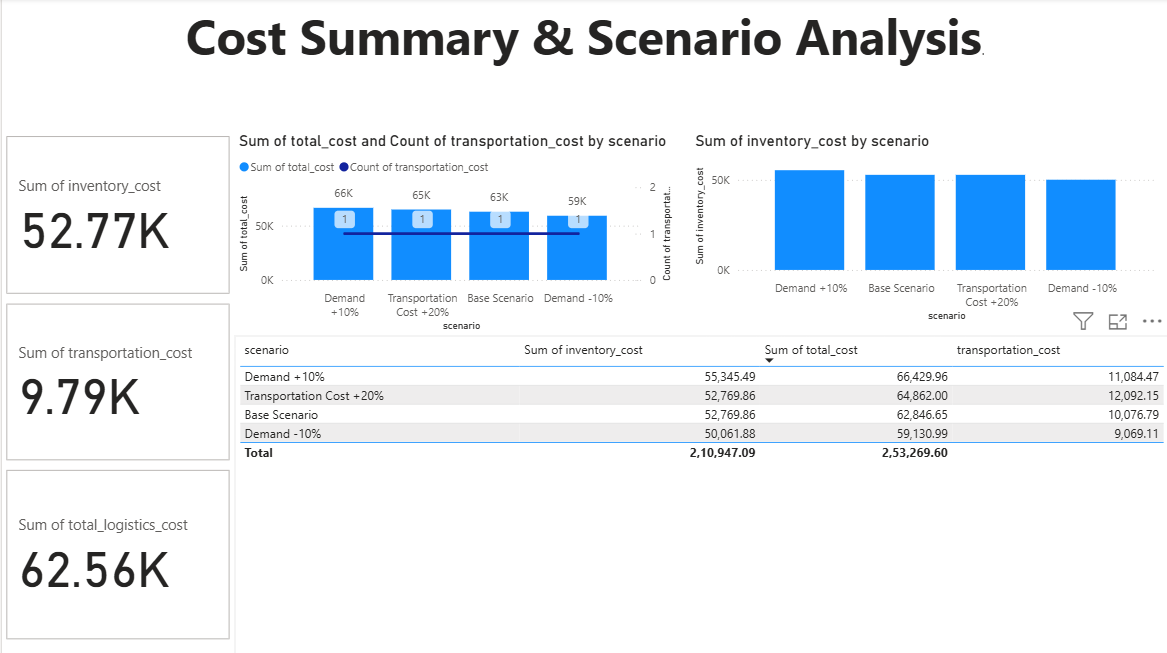

The dashboard page shown, as its layout file describes it:
{"tool":"powerbi","page":{"name":"Page 4","canvas":[1280,720],"ordinal":3},"visuals":[{"type":"textbox","box":[9.6,0,1261.1,89.2],"z":0},{"type":"cardVisual","fields":{"Data":["Sum(cost_summary (2).inventory_cost)"]},"box":[0,146.8,255.2,183.9],"z":1000},{"type":"cardVisual","fields":{"Data":["Sum(cost_summary (2).transportation_cost)"]},"box":[0,330.7,255.2,182.5],"z":2000},{"type":"cardVisual","fields":{"Data":["Sum(cost_summary (2).total_logistics_cost)"]},"box":[0,513.2,255.2,196.2],"z":3000},{"type":"lineClusteredColumnComboChart","fields":{"Category":["Data (10).scenario"],"Y":["Sum(Data (10).total_cost)"],"Y2":["CountNonNull(Data (10).transportation_cost)"]},"box":[255.2,146.8,485.8,223.7],"z":4000},{"type":"clusteredColumnChart","fields":{"Category":["Data (10).scenario"],"Y":["Sum(Data (10).inventory_cost)"]},"box":[756.1,146.8,514.6,212.7],"z":5000},{"type":"tableEx","fields":{"Values":["Data (10).scenario","Sum(Data (10).inventory_cost)","Sum(Data (10).total_cost)","Data (10).transportation_cost"]},"box":[255.2,370.5,1025,349.9],"z":6000}]}

Visuals, with their boxes in screenshot pixels (x1, y1, x2, y2), scaled from the page's 1280x720 canvas onto the 1167x653 screenshot:
textbox: 9,0,1159,81
cardVisual - Sum(cost_summary (2).inventory_cost): 0,133,233,300
cardVisual - Sum(cost_summary (2).transportation_cost): 0,300,233,465
cardVisual - Sum(cost_summary (2).total_logistics_cost): 0,465,233,643
lineClusteredColumnComboChart - Data (10).scenario x Sum(Data (10).total_cost): 233,133,676,336
clusteredColumnChart - Data (10).scenario x Sum(Data (10).inventory_cost): 689,133,1159,326
tableEx - Data (10).scenario x Sum(Data (10).inventory_cost): 233,336,1166,652
